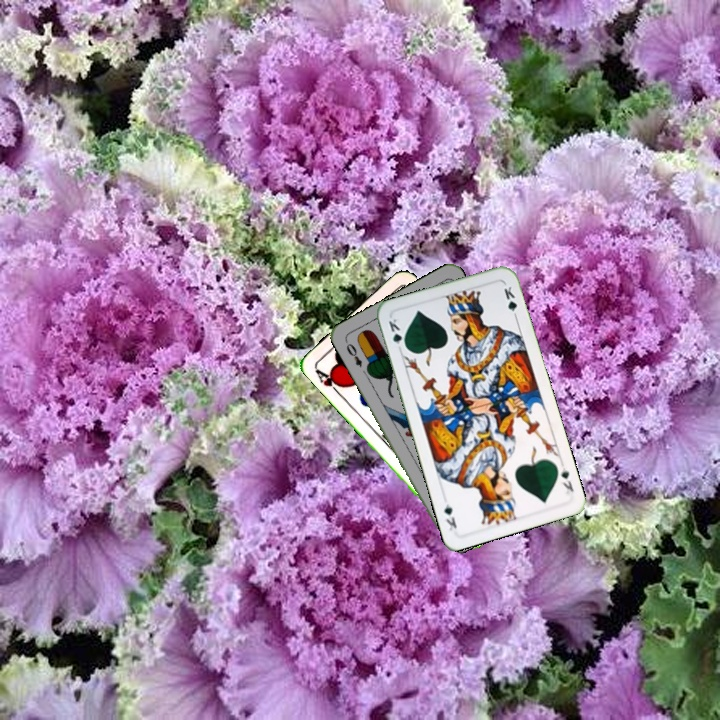EO: (341, 337, 365, 370)
GK: (384, 314, 409, 352), (557, 463, 576, 497)
HA: (311, 364, 346, 397)
